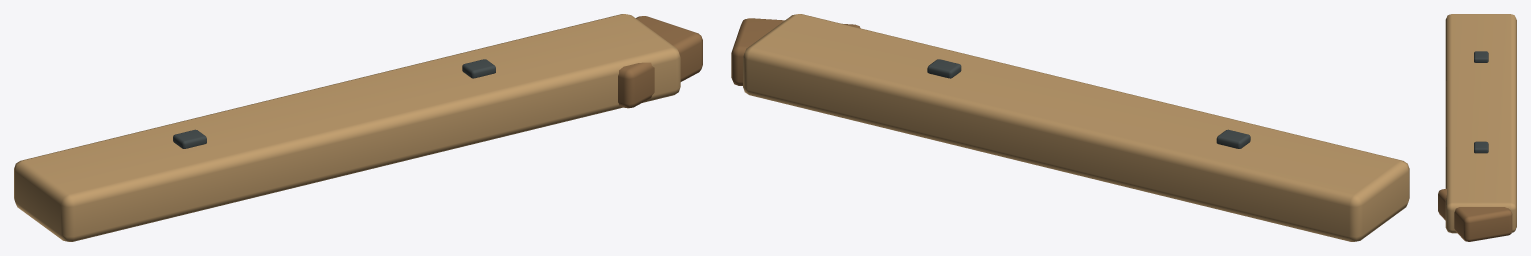
The model's file is timber_fragment.glb.
3 renders of one model, left to right at view 1: azimuth 30°, elevation 25°; view 2: azimuth 150°, elevation 25°; view 3: azimuth 270°, elevation 25°, orthographic. The views are drawn at different scales.
Parts seen in each view (by area): view 1: Split plank, Fractured end, Dark fastener.001, Dark fastener; view 2: Split plank, Fractured end, Dark fastener.001, Dark fastener; view 3: Split plank, Fractured end, Dark fastener.001, Dark fastener.
Part boxes in pixels (x1=…): Split plank: x1=14, y1=14, x2=680, y2=241; Fractured end: x1=618, y1=16, x2=702, y2=108; Dark fastener.001: x1=462, y1=59, x2=495, y2=78; Dark fastener: x1=173, y1=129, x2=206, y2=148; Split plank: x1=743, y1=14, x2=1409, y2=241; Fractured end: x1=731, y1=18, x2=860, y2=85; Dark fastener.001: x1=927, y1=59, x2=961, y2=78; Dark fastener: x1=1216, y1=129, x2=1250, y2=148; Split plank: x1=1445, y1=14, x2=1516, y2=233; Fractured end: x1=1438, y1=188, x2=1512, y2=241; Dark fastener.001: x1=1474, y1=141, x2=1488, y2=153; Dark fastener: x1=1474, y1=51, x2=1488, y2=62.
Size of the model in its own units: 1.29 by 0.1035 by 0.2098.
